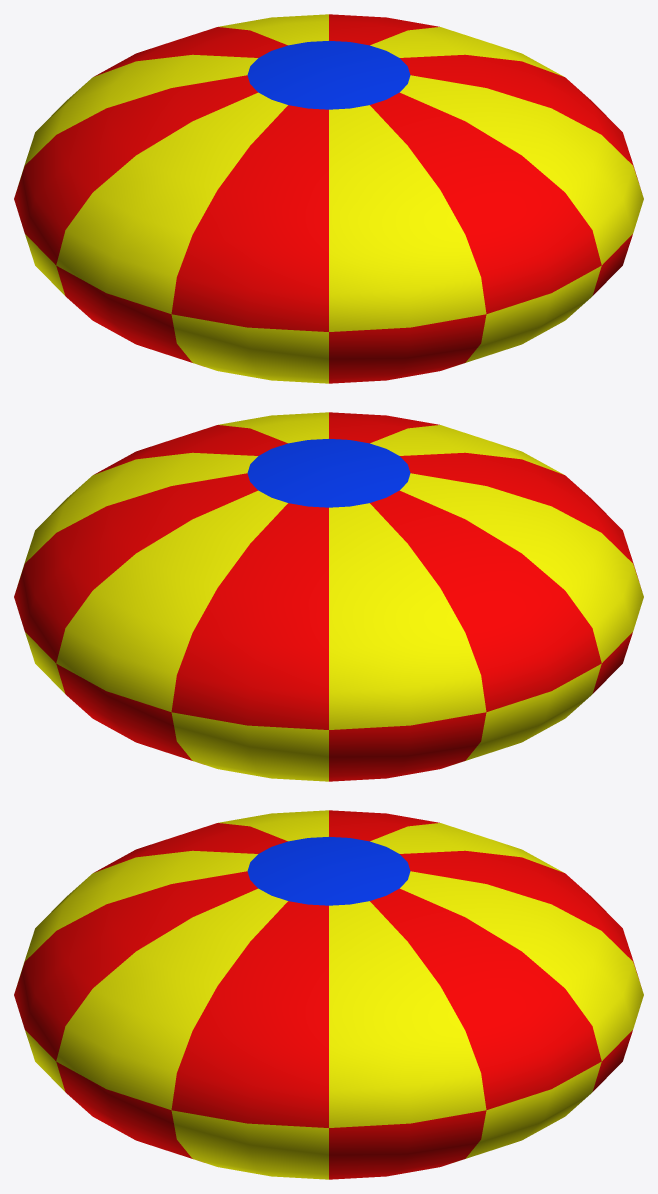
Rendered from ball.glb.
The picture shows the model from 3 angles, top to bottom: view 1: azimuth 30°, elevation 25°; view 2: azimuth 150°, elevation 25°; view 3: azimuth 270°, elevation 25°; orthographic projection.
Visible parts, largest first — view 1: sphere_object1; view 2: sphere_object1; view 3: sphere_object1.
Boxes of the visible parts, x1,y1,x2,y2 form: sphere_object1: [14, 14, 643, 383]; sphere_object1: [14, 412, 643, 781]; sphere_object1: [14, 810, 643, 1179].
Size of the model in its own units: 1.37 by 0.6148 by 1.37.
